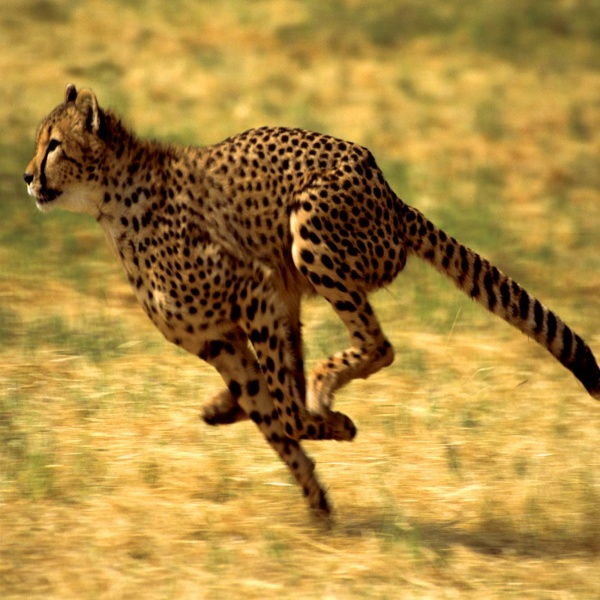Cheetah: (18, 77, 599, 537)
